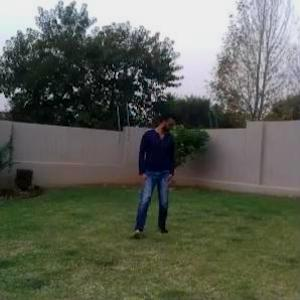follow: (138, 106, 175, 231)
